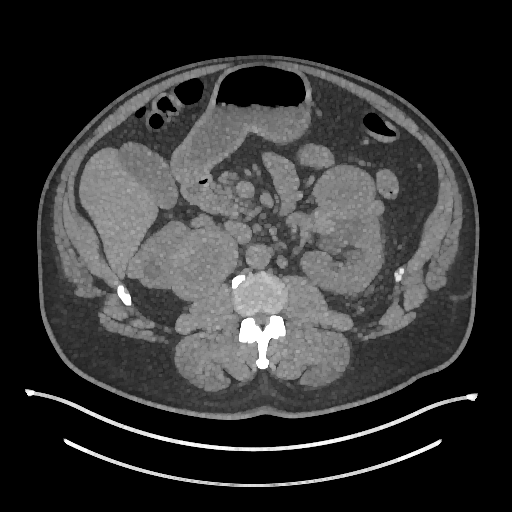Lesion: (174, 231, 238, 301)
